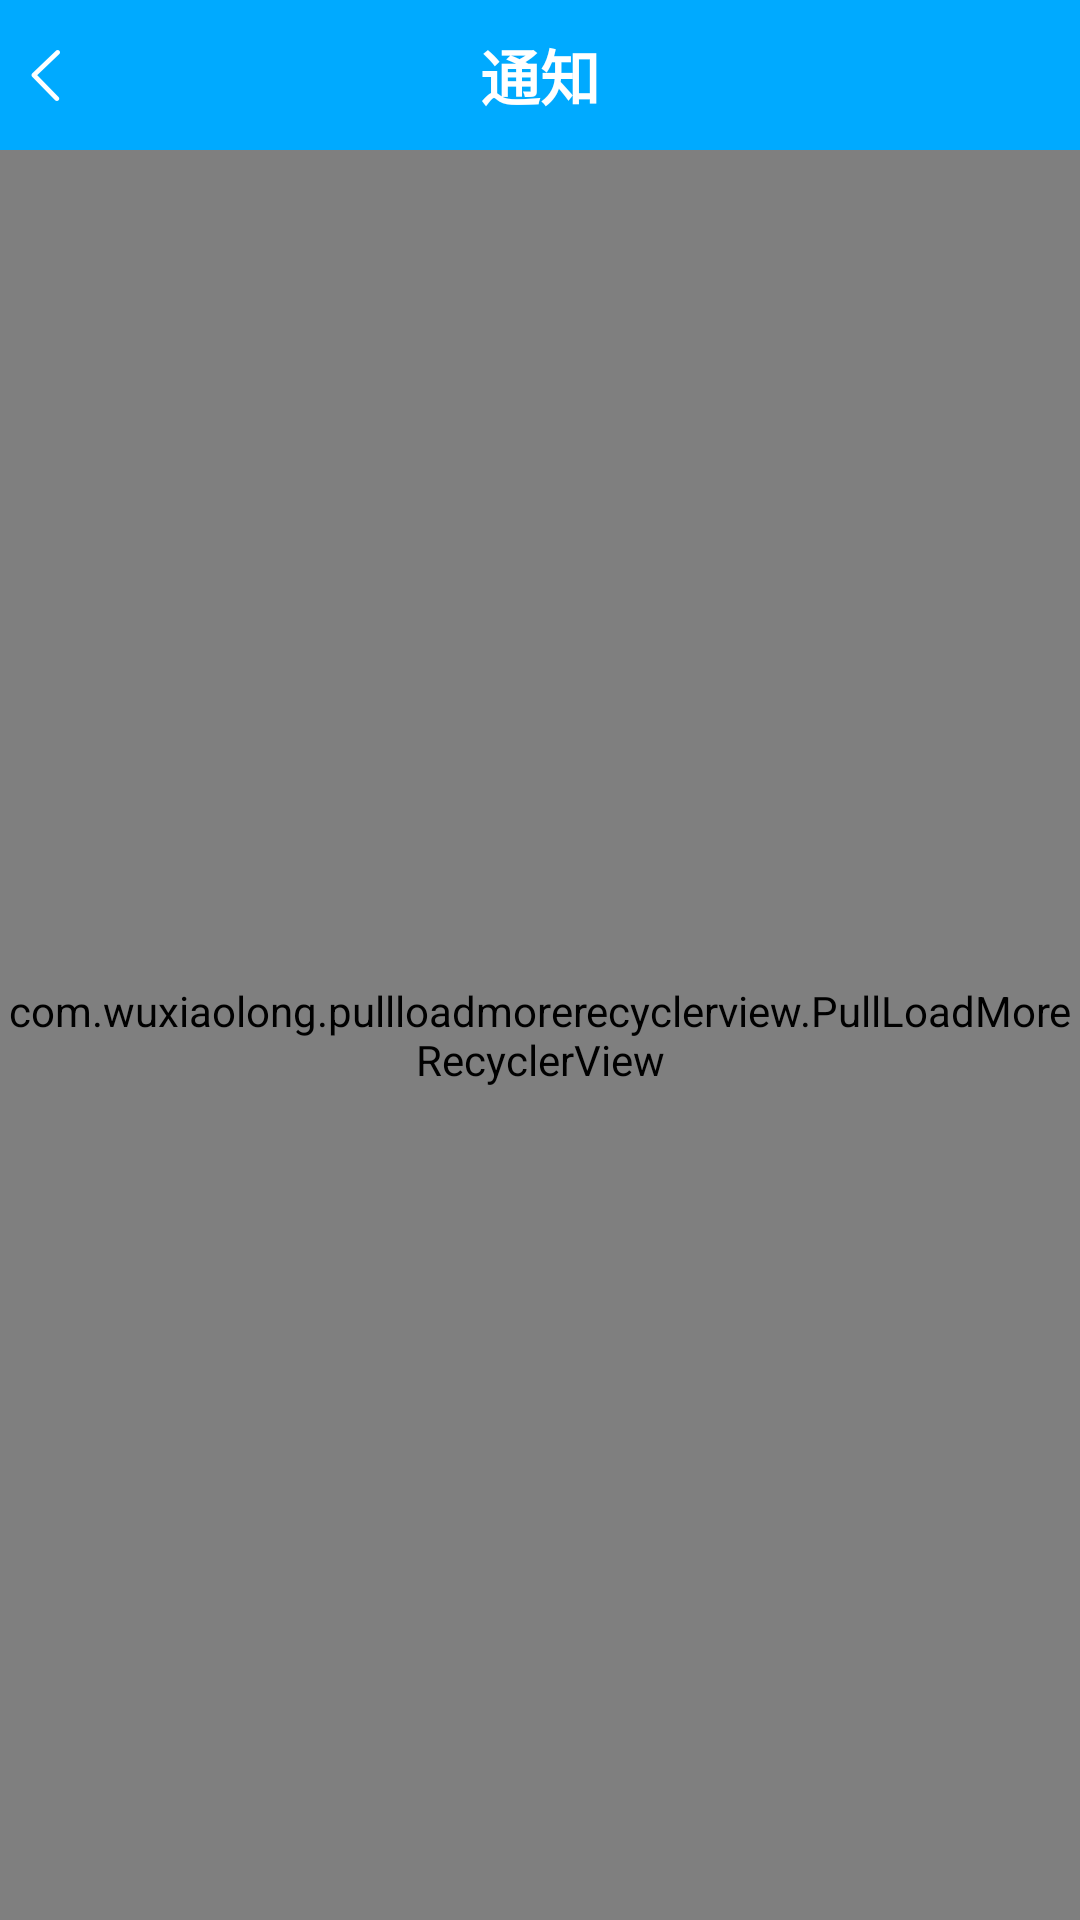

Where icons sit on this 1080 × 1920 app screen, as region(x1, y1, x2, y2):
fanhui: region(31, 50, 60, 101)
